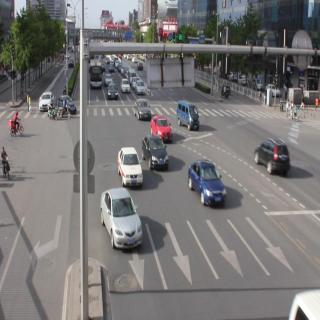BigCar: (91, 59, 103, 92)
Car: (96, 186, 142, 257), (191, 161, 224, 215), (257, 136, 288, 178), (116, 144, 144, 188), (176, 100, 203, 138), (32, 86, 59, 124), (144, 129, 165, 174), (148, 110, 173, 144), (120, 72, 132, 99), (132, 102, 152, 118), (106, 79, 121, 98), (136, 76, 148, 96)
